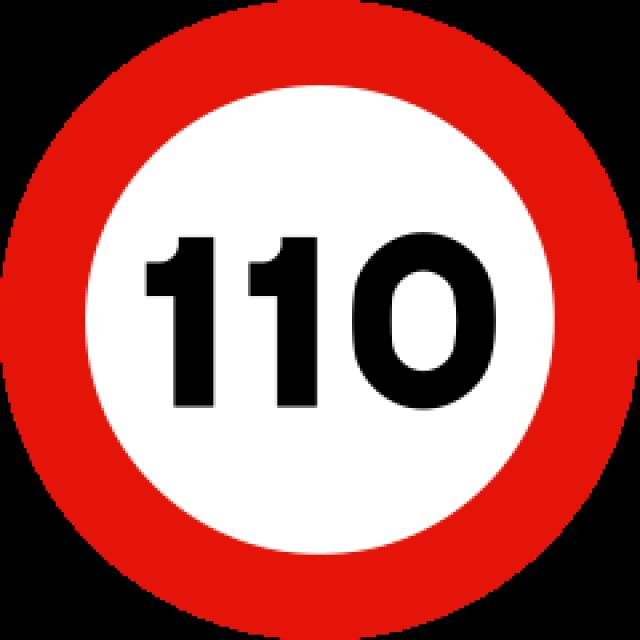Speed Limit -110-: (118, 212, 514, 436)
